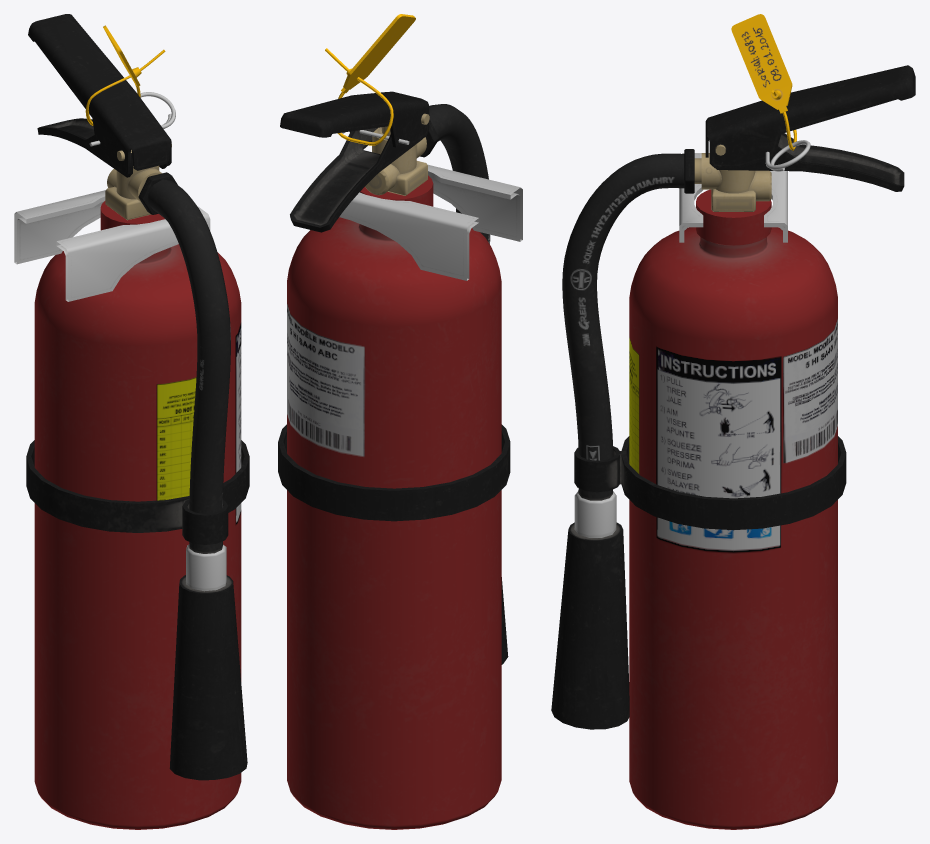
File: SM_FireExtinguisher_01.FBX
The picture shows the model from 3 angles, left to right: view 1: azimuth 30°, elevation 25°; view 2: azimuth 150°, elevation 25°; view 3: azimuth 270°, elevation 25°; orthographic projection. The views are drawn at different scales.
Parts seen in each view (by area): view 1: SM_FireExtinguisher_01_LOD0; view 2: SM_FireExtinguisher_01_LOD0; view 3: SM_FireExtinguisher_01_LOD0.
Boxes of the visible parts, x1,y1,x2,y2 form: SM_FireExtinguisher_01_LOD0: (14, 14, 249, 829); SM_FireExtinguisher_01_LOD0: (278, 14, 522, 829); SM_FireExtinguisher_01_LOD0: (551, 14, 915, 829).
Size of the model in its own units: 18.28 by 29.53 by 68.55.
